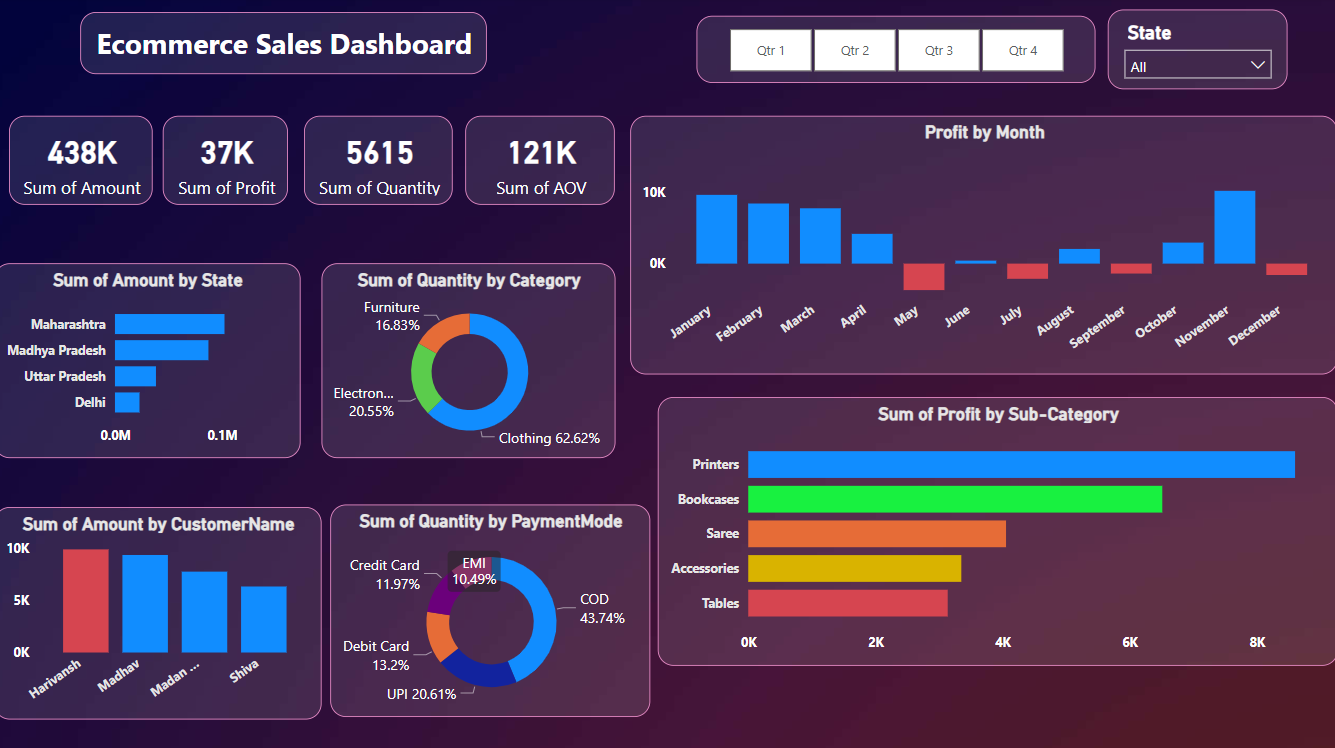

Layout of this report page (visuals, bound fields, positions):
{"tool":"powerbi","page":{"name":"Page 1","canvas":[1280,720],"ordinal":0},"visuals":[{"type":"textbox","box":[82.3,13.7,387,59],"z":0},{"type":"columnChart","title":"Profit by Month","fields":{"Y":["Details.Profit"],"Category":["Orders.Order Date.Variation.Date Hierarchy.Month"]},"box":[606,113.1,673.8,246.4],"z":1000},{"type":"barChart","fields":{"Category":["Details.Sub-Category"],"Y":["Details.Profit"]},"box":[632.1,381,647.6,256],"z":2000},{"type":"donutChart","fields":{"Category":["Details.Category"],"Y":["Details.Quantity"]},"box":[311.9,253.6,279.8,185.7],"z":3000},{"type":"donutChart","fields":{"Category":["Details.PaymentMode"],"Y":["Details.Quantity"]},"box":[320.2,483.3,304.8,202.4],"z":4000},{"type":"card","fields":{"Values":["Details.Amount"]},"box":[13.8,112.6,136.8,85.1],"z":5000},{"type":"card","fields":{"Values":["Details.Quantity"]},"box":[295.4,112.6,141.4,85.1],"z":6000},{"type":"card","fields":{"Values":["Details.Profit"]},"box":[160.9,112.6,119.5,85.1],"z":7000},{"type":"card","fields":{"Values":["Details.AOV"]},"box":[448.3,112.6,142.5,85.1],"z":8000},{"type":"barChart","fields":{"Category":["Orders.State"],"Y":["Details.Amount"]},"box":[0,253.6,291.7,185.7],"z":9000},{"type":"columnChart","fields":{"Category":["Orders.CustomerName"],"Y":["Details.Amount"]},"box":[0,485.7,311.9,202.4],"z":10000},{"type":"slicer","fields":{"Values":["Orders.Order Date.Variation.Date Hierarchy.Quarter"]},"box":[669.1,17.9,379.8,64.3],"z":11000},{"type":"slicer","fields":{"Values":["Orders.State"]},"box":[1060.7,11.9,171.4,76.2],"z":12000}]}

Visuals, with their boxes in screenshot pixels (x1, y1, x2, y2), scaled from the page's 1280x720 canvas onto the 1335x748 screenshot:
textbox: [x1=86, y1=14, x2=489, y2=76]
"Profit by Month" columnChart: [x1=632, y1=117, x2=1334, y2=373]
barChart - Details.Sub-Category x Details.Profit: [x1=659, y1=396, x2=1334, y2=662]
donutChart - Details.Category x Details.Quantity: [x1=325, y1=263, x2=617, y2=456]
donutChart - Details.PaymentMode x Details.Quantity: [x1=334, y1=502, x2=652, y2=712]
card - Details.Amount: [x1=14, y1=117, x2=157, y2=205]
card - Details.Quantity: [x1=308, y1=117, x2=456, y2=205]
card - Details.Profit: [x1=168, y1=117, x2=292, y2=205]
card - Details.AOV: [x1=468, y1=117, x2=616, y2=205]
barChart - Orders.State x Details.Amount: [x1=0, y1=263, x2=304, y2=456]
columnChart - Orders.CustomerName x Details.Amount: [x1=0, y1=505, x2=325, y2=715]
slicer - Orders.Order Date.Variation.Date Hierarchy.Quarter: [x1=698, y1=19, x2=1094, y2=85]
slicer - Orders.State: [x1=1106, y1=12, x2=1285, y2=92]
